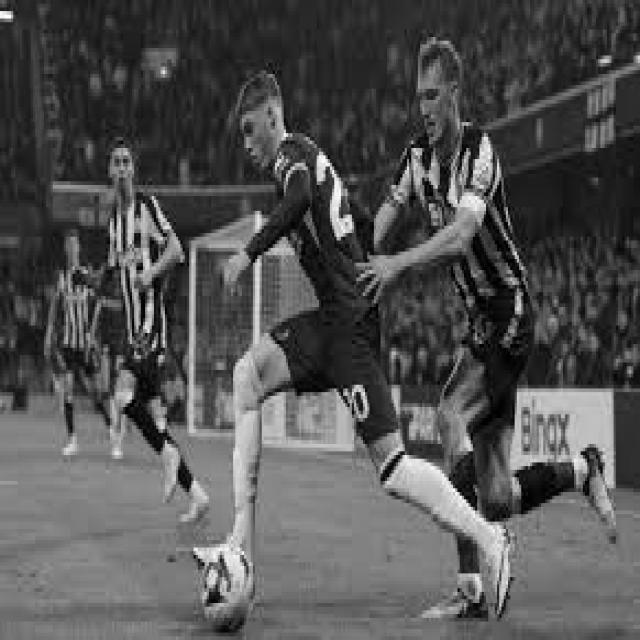football: (192, 544, 259, 632)
